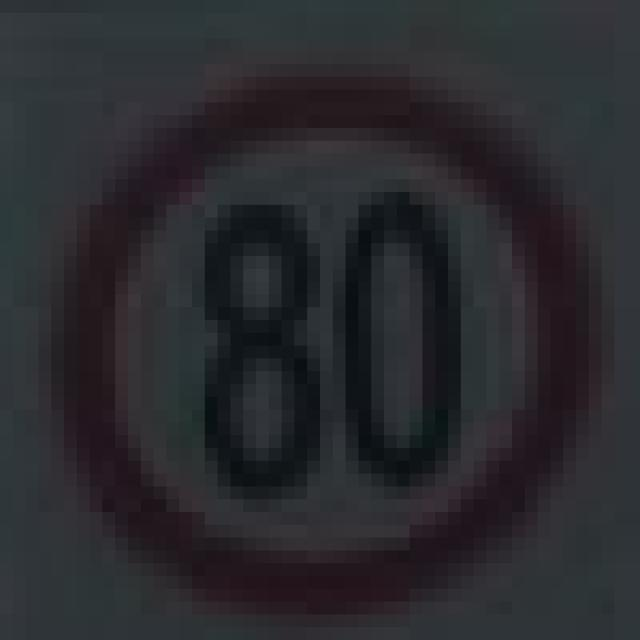speed_limit_50: (38, 64, 589, 589)
